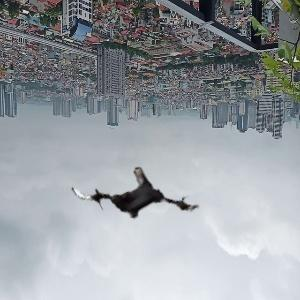drone: (73, 133, 202, 262)
